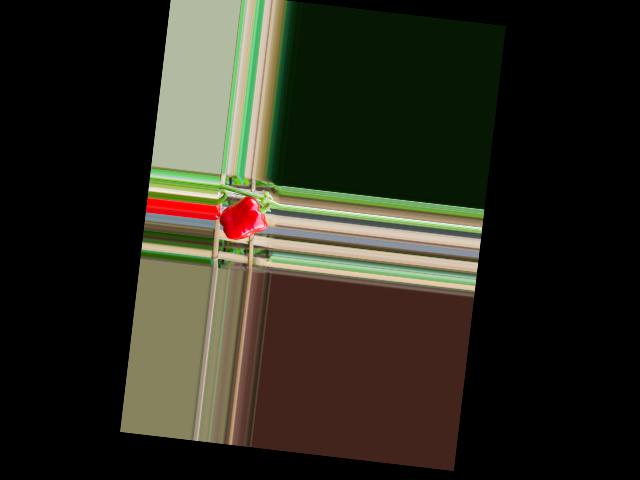bell_pepper: (217, 190, 270, 246)
